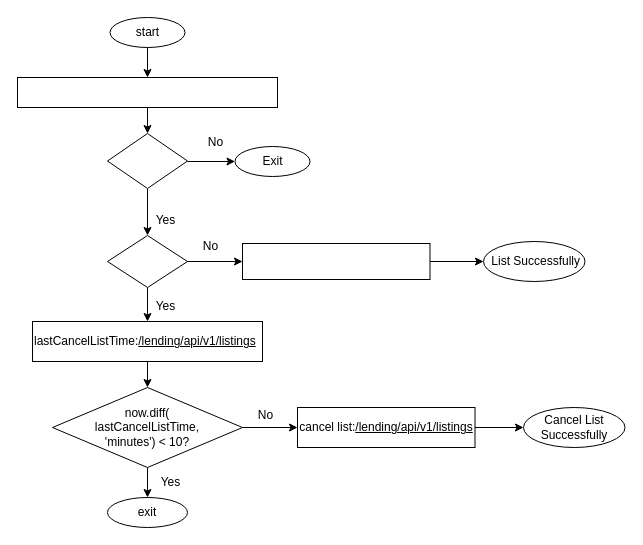
Image size: 643x545. Some labels were removed from this diagram. The centre of each missing label's shape, as x and y in pixels:
listing: /lending/api/v1/listings: (x=336, y=261)
listing?: (x=147, y=261)
mortgaged?: (x=147, y=160)
my assets list: /lending/api/v1/assets/nfts: (x=147, y=92)
